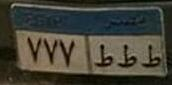7: (58, 37, 77, 66), (25, 37, 43, 63), (43, 39, 58, 65)
Taa: (94, 40, 114, 69), (116, 42, 138, 68), (141, 44, 160, 68)
